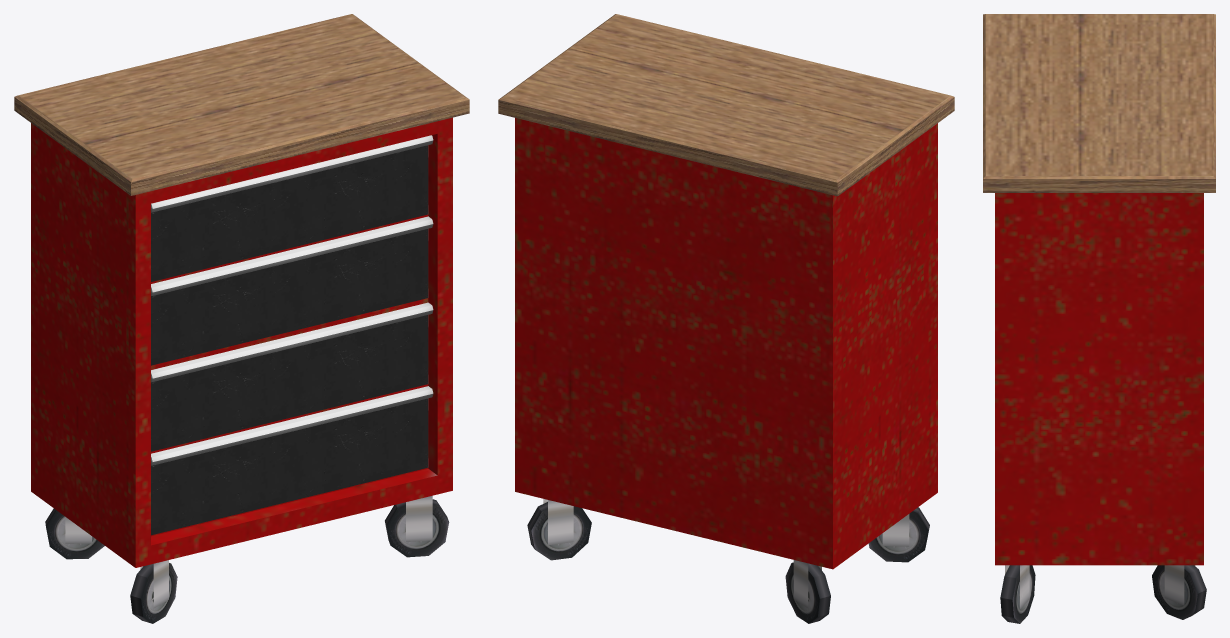
Rendered from rolling tool chest.fbx.
3 views of the same model, side by side, from view 1: azimuth 30°, elevation 25°; view 2: azimuth 150°, elevation 25°; view 3: azimuth 270°, elevation 25° (orthographic).
Parts seen in each view (by area): view 1: wheel 4; view 2: wheel 4; view 3: wheel 4.
Part boxes in pixels (left/top/right/bottom): wheel 4: left=14, top=14, right=469, bottom=623; wheel 4: left=498, top=14, right=954, bottom=623; wheel 4: left=983, top=14, right=1215, bottom=623.
Size of the model in its own units: 373 by 485 by 223.
6 materials, 5 textured.
